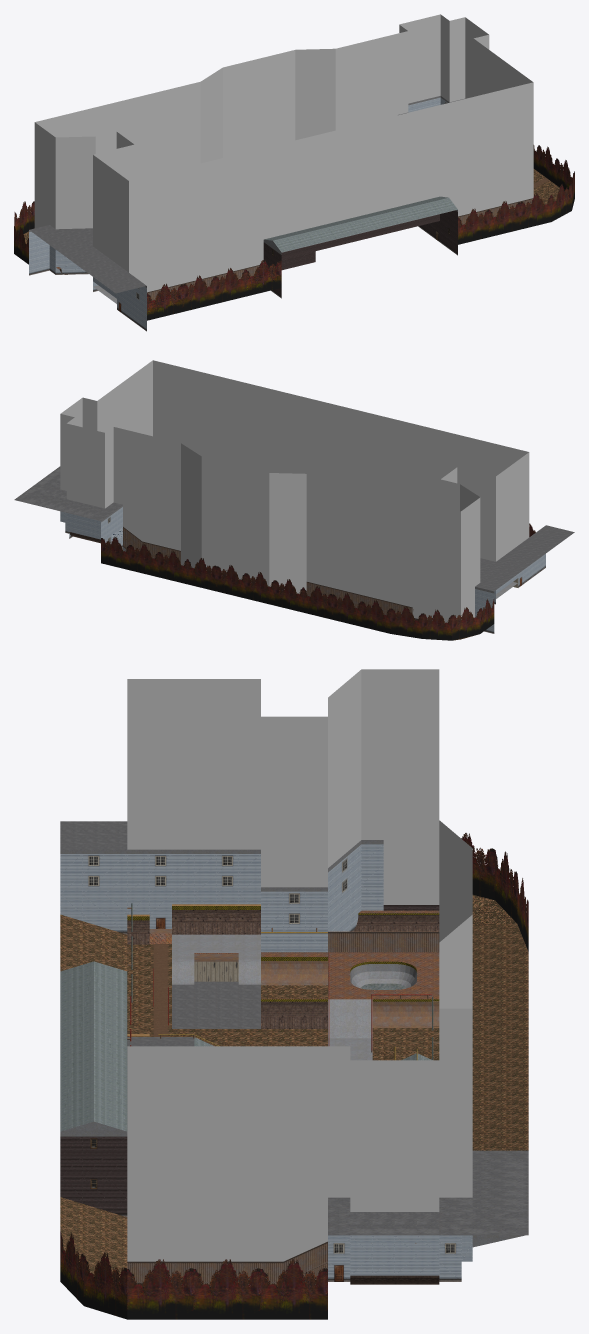
File: SawMill2.fbx
The picture shows the model from 3 angles, top to bottom: view 1: azimuth 30°, elevation 25°; view 2: azimuth 150°, elevation 25°; view 3: azimuth 270°, elevation 25°; orthographic projection. The views are drawn at different scales.
Visible parts, largest first — view 1: InvsWalls, OOB, Walls; view 2: InvsWalls, OOB, Walls; view 3: InvsWalls, OOB, Walls, Ground, Ramp14, Ramp15, Ramp16, Ramp17, Rails, Ramp3.
Part boxes in pixels (x1,y1,x2,y2): InvsWalls: (34,14,533,292); OOB: (14,145,574,320); Walls: (29,96,533,331); InvsWalls: (60,360,529,622); OOB: (14,466,574,640); Walls: (60,505,545,633); InvsWalls: (127,669,472,1261); OOB: (60,821,528,1319); Walls: (60,840,524,1286); Ground: (127,929,439,1060); Ramp14: (172,904,260,934); Ramp15: (261,952,327,985); Ramp16: (372,999,439,1027); Ramp17: (353,910,439,931); Rails: (127,903,439,1243); Ramp3: (350,1275,439,1284).
Size of the model in its own units: 9200 by 2555 by 4200.
